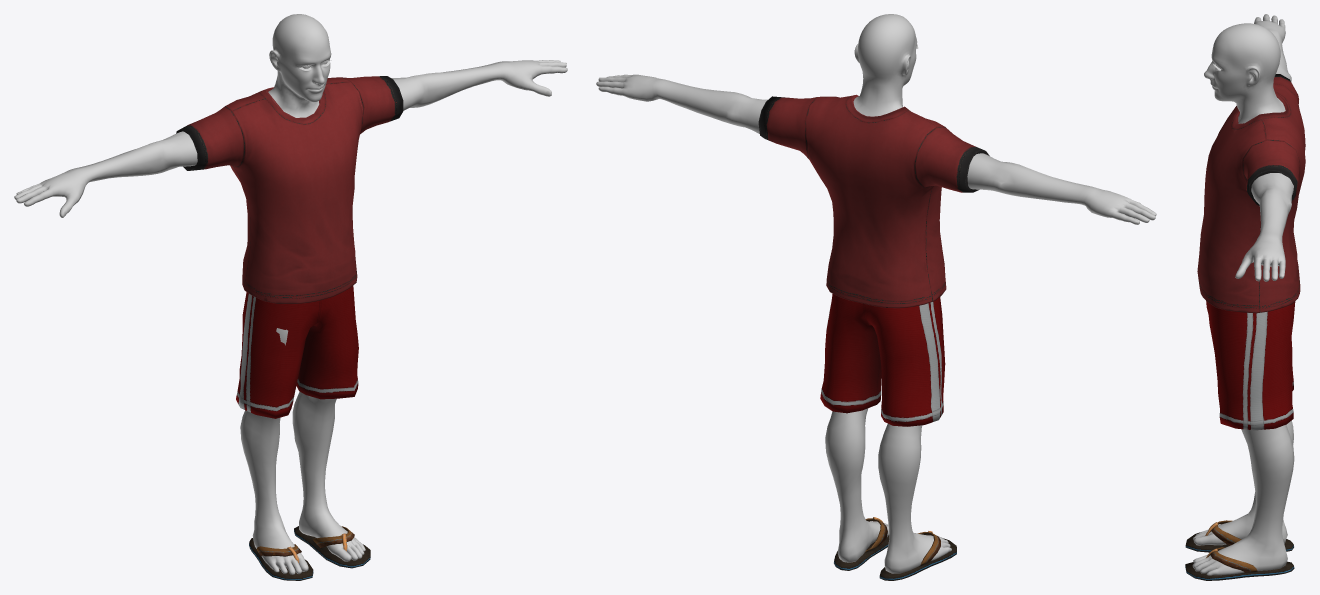
The model's file is Player Basic.obj.
3 views of the same model, side by side, from view 1: azimuth 30°, elevation 25°; view 2: azimuth 150°, elevation 25°; view 3: azimuth 270°, elevation 25° (orthographic).
Parts seen in each view (by area): view 1: Tops, Body, Bottoms, Shoes; view 2: Tops, Body, Bottoms, Shoes; view 3: Body, Tops, Bottoms, Shoes.
Part boxes in pixels (x1,y1,x2,y2): Tops: (176, 76, 403, 303); Body: (14, 14, 567, 574); Bottoms: (236, 286, 358, 418); Shoes: (249, 526, 370, 580); Tops: (758, 94, 989, 308); Body: (596, 14, 1156, 573); Bottoms: (820, 294, 945, 426); Shoes: (834, 517, 956, 580); Body: (1192, 14, 1294, 575); Tops: (1197, 74, 1305, 313); Bottoms: (1206, 301, 1295, 430); Shoes: (1185, 520, 1294, 580).
Bounding box in the file's own units: 194 × 180 × 36.9.
